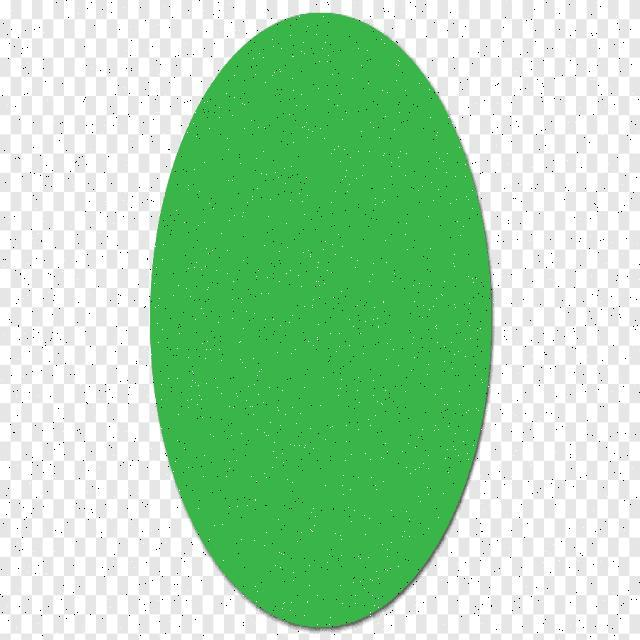Circle: (147, 13, 495, 631)
